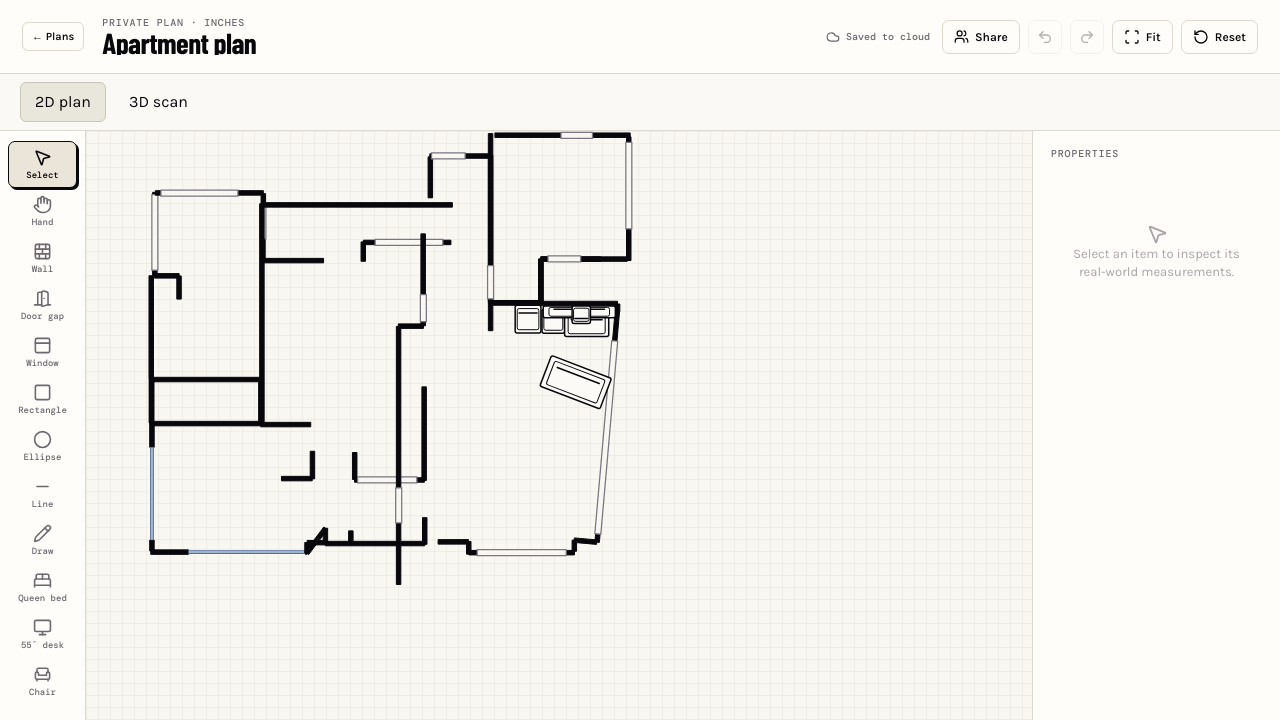
Scenario: FloorPlannerApp › opens the sharing dialog with the invite form and empty invitation state
Click the button "Share".
click(981, 36)  # box [942, 20, 1020, 54]
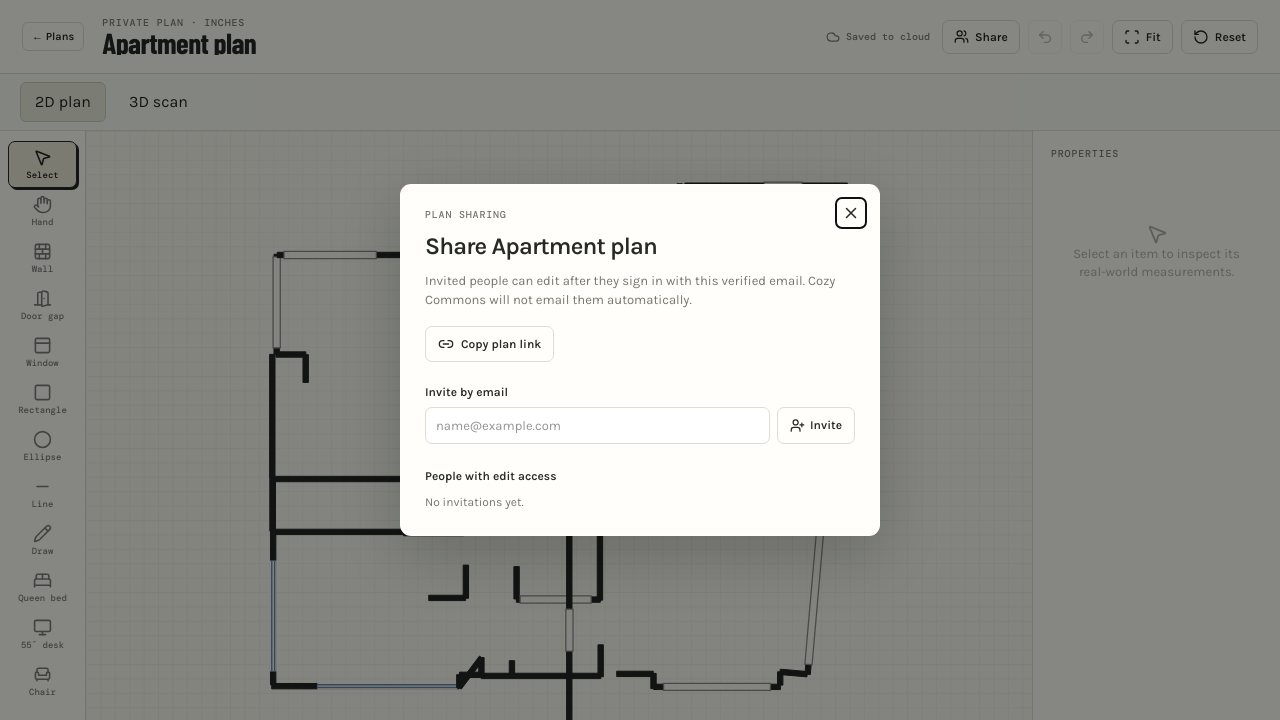
Expected: the field labelled "Invite by email" is shown, [425, 407, 770, 444]
Expected: the text "No invitations yet." is shown, [425, 495, 524, 509]
Expected: the dialog "Share Apartment plan" is shown, [400, 184, 880, 536]
